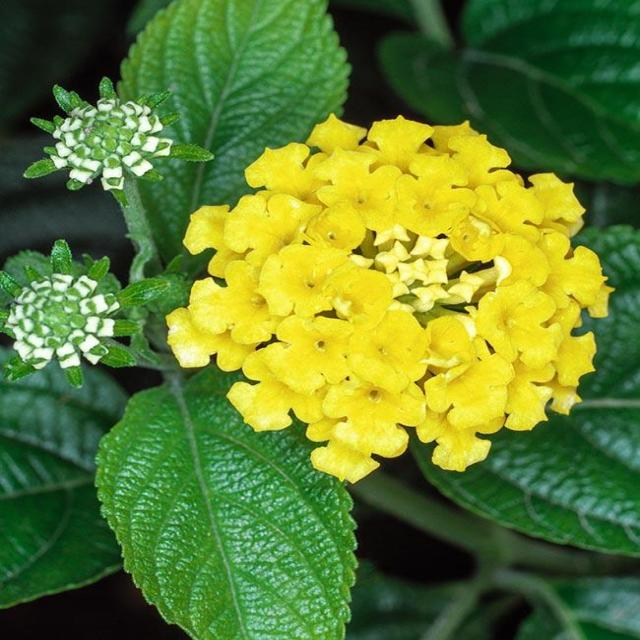organic waste: (154, 92, 625, 460)
